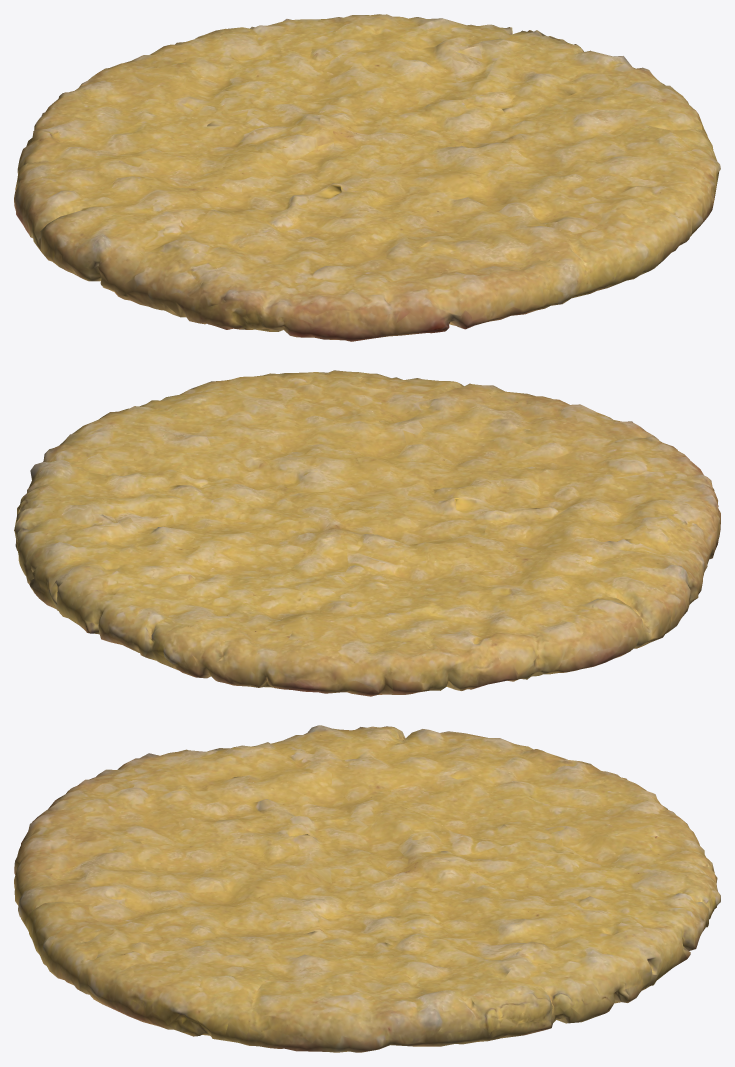
The picture shows the model from 3 angles, top to bottom: view 1: azimuth 30°, elevation 25°; view 2: azimuth 150°, elevation 25°; view 3: azimuth 270°, elevation 25°; orthographic projection. The views are drawn at different scales.
Parts seen in each view (by area): view 1: Snow cake; view 2: Snow cake; view 3: Snow cake.
Boxes of the visible parts, <box> form: Snow cake: <box>14,14,720,341</box>; Snow cake: <box>14,370,720,696</box>; Snow cake: <box>14,725,720,1052</box>.
Size of the model in its own units: 0.0732 by 0.00717 by 0.0708.
Materials: 1 (1 with a texture image).
